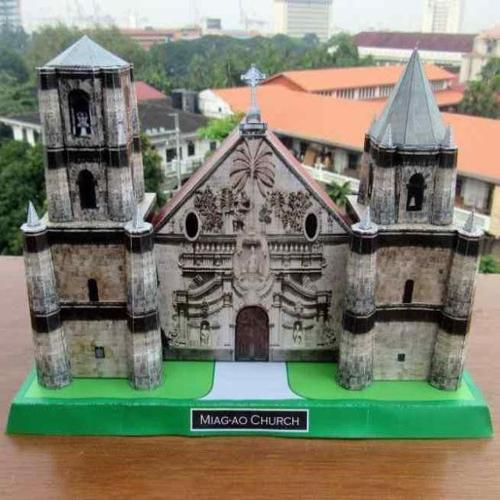Miagao Church: (24, 26, 475, 409)
